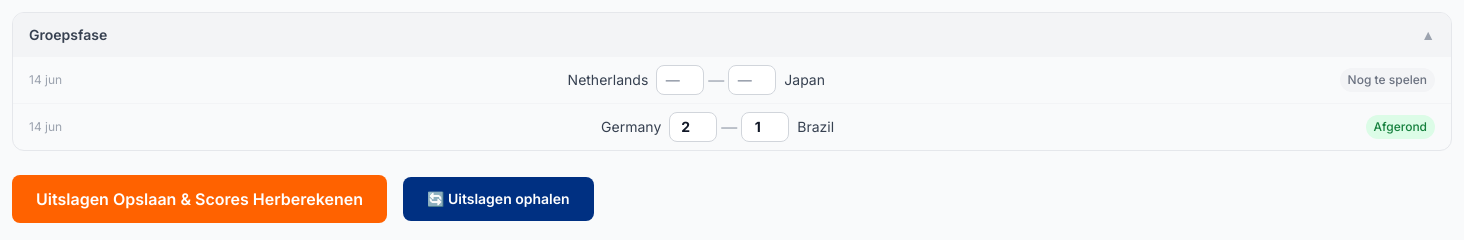
Scenario: AdminMatchResults › shows error status when supabase update fails
Click the button "Uitslagen Opslaan & Scores Herberekenen" at (199, 199), box [12, 175, 387, 223]
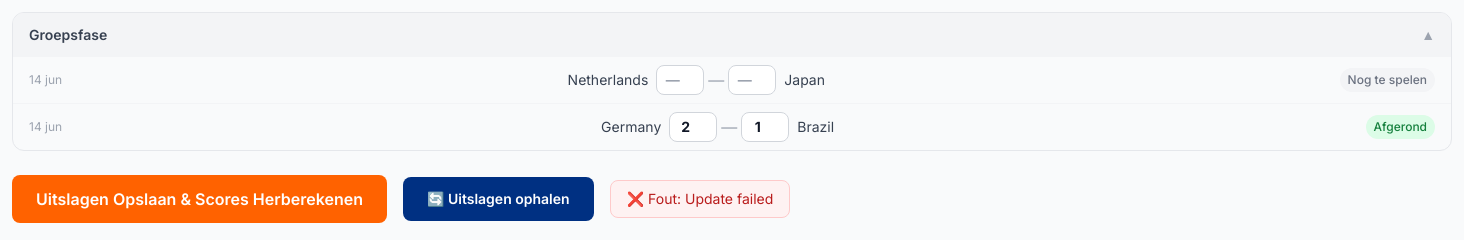
Now the text "❌ Fout: Update failed" is shown, box [610, 180, 790, 218]
